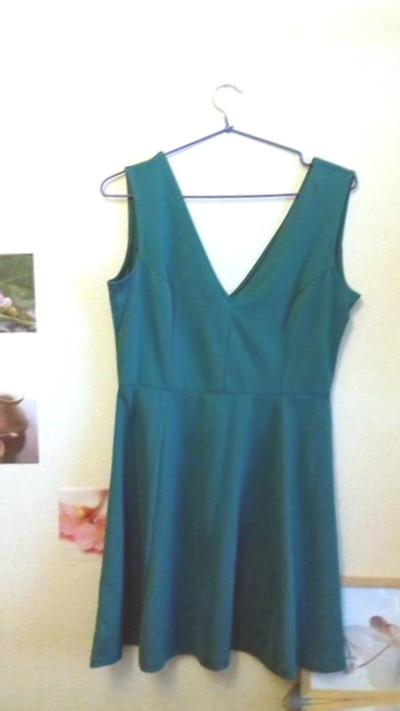Dress: (55, 114, 400, 688)
